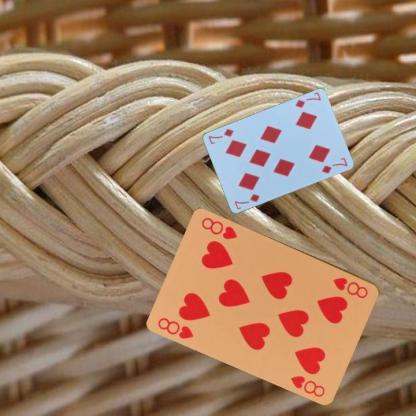7d: (292, 90, 322, 109), (232, 191, 260, 211)
8h: (155, 314, 196, 340), (330, 274, 370, 300)
